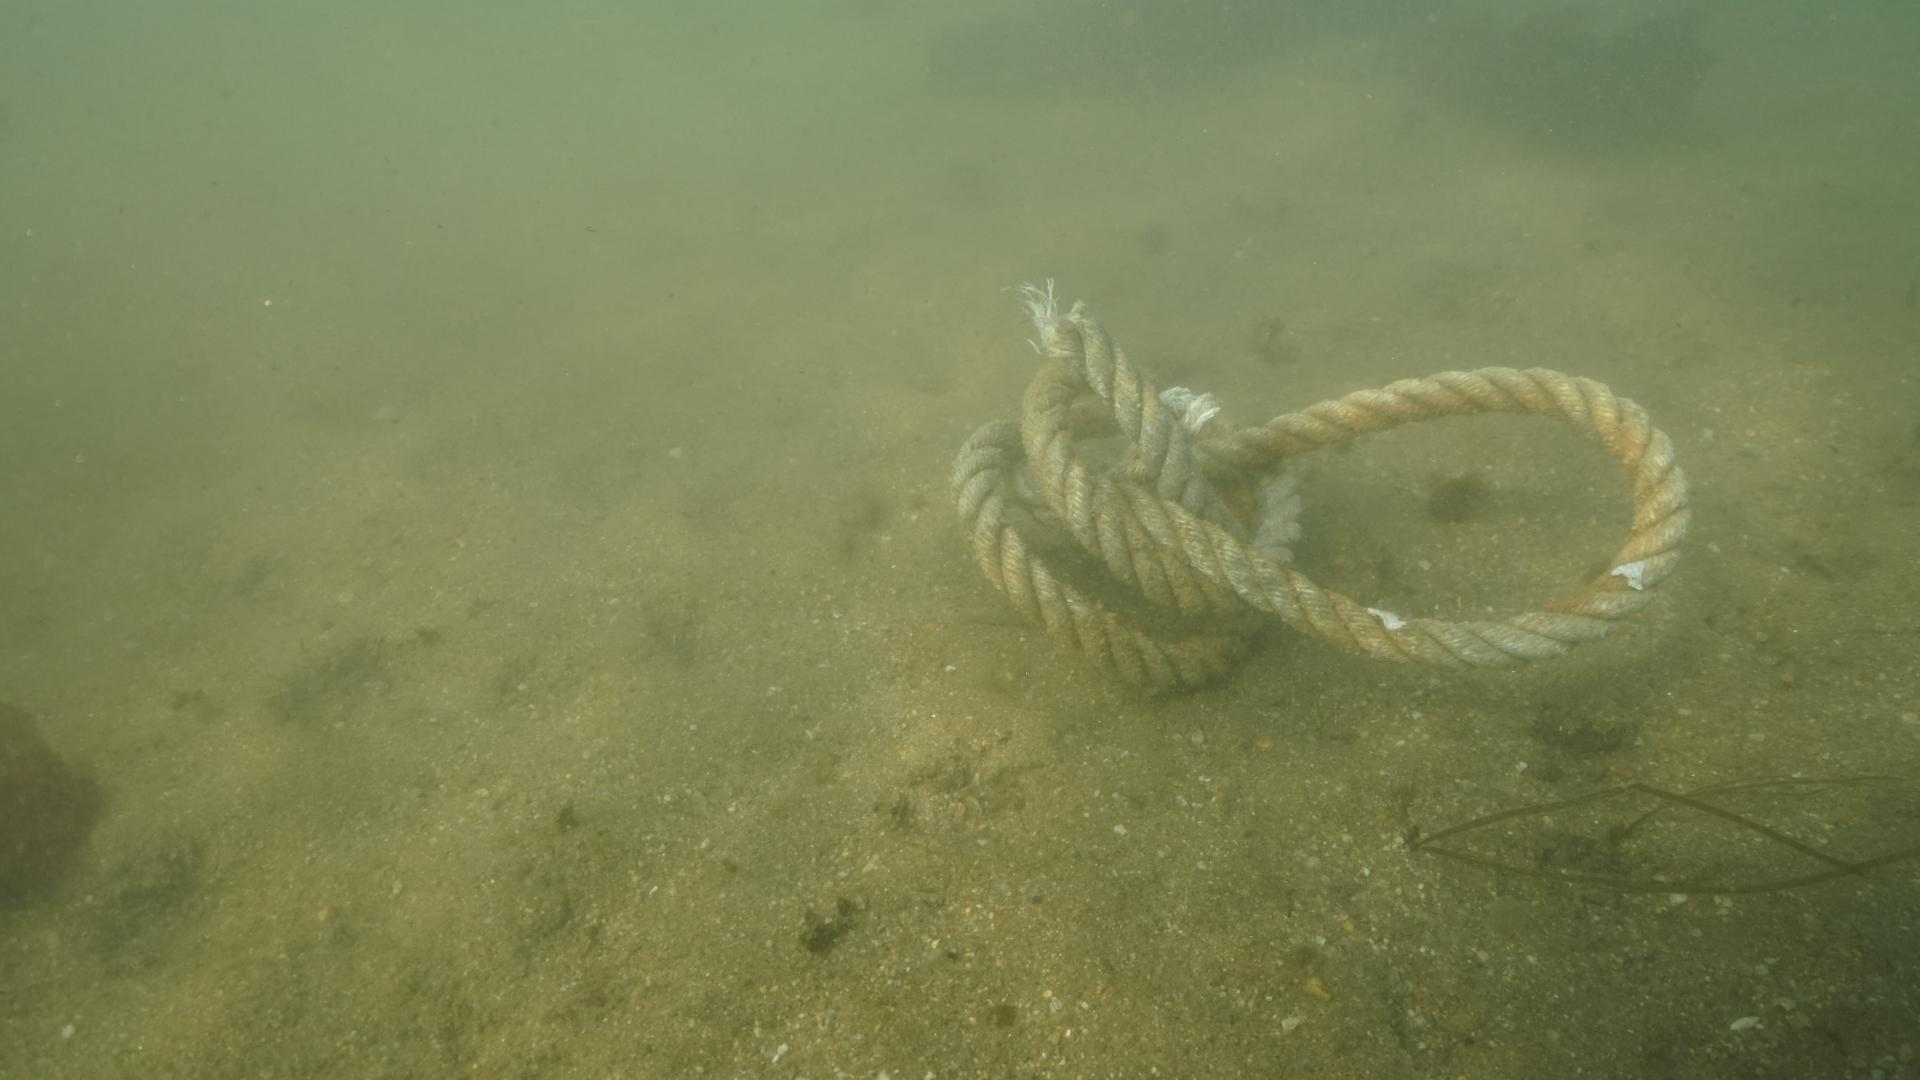bundle of ropes: (943, 315, 1693, 698)
